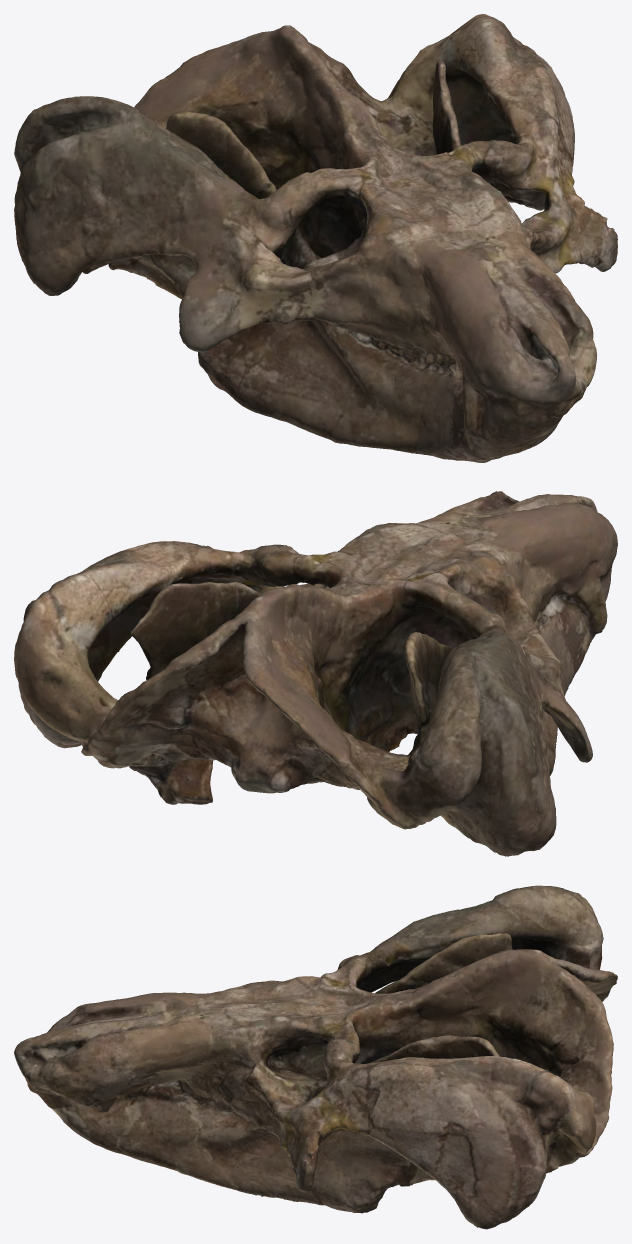
3 views of the same model, one above another, from view 1: azimuth 30°, elevation 25°; view 2: azimuth 150°, elevation 25°; view 3: azimuth 270°, elevation 25° (orthographic). The views are drawn at different scales.
Visible parts, largest first — view 1: orientacao; view 2: orientacao; view 3: orientacao.
Part boxes in pixels (x1,y1,x2,y2): orientacao: [14, 14, 617, 462]; orientacao: [14, 491, 617, 856]; orientacao: [14, 885, 617, 1229].
Size of the model in its own units: 6310 by 3184 by 7473.
Materials: 1 (1 with a texture image).
